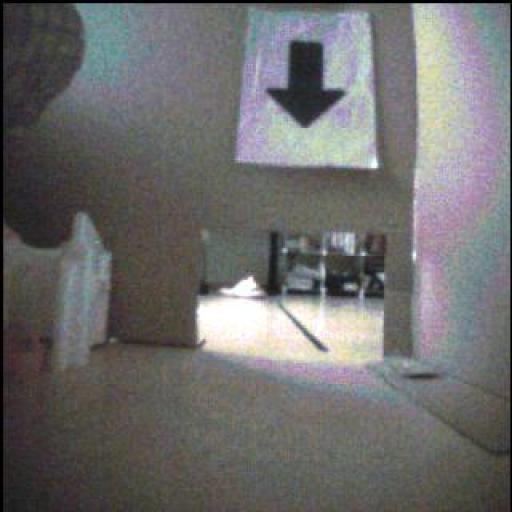arrow: (268, 43, 347, 129)
